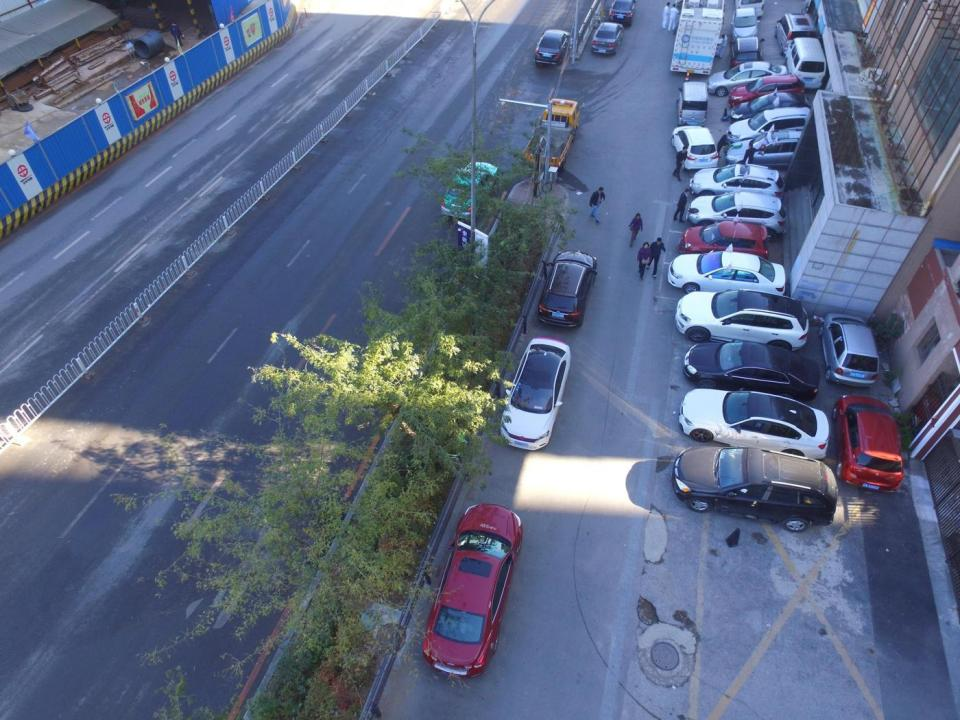car: (424, 500, 522, 681), (667, 441, 839, 538), (674, 382, 830, 461), (674, 287, 812, 350), (500, 336, 572, 450), (684, 341, 822, 400), (831, 393, 907, 494), (668, 248, 785, 298), (817, 310, 882, 387), (724, 126, 822, 174), (726, 103, 820, 153), (688, 190, 788, 236), (541, 250, 597, 327), (678, 220, 770, 262), (687, 164, 786, 202), (442, 162, 499, 218), (707, 62, 789, 96), (732, 92, 815, 124), (668, 126, 721, 170), (731, 74, 806, 104), (530, 24, 572, 67), (589, 20, 625, 57), (730, 33, 765, 68), (727, 7, 760, 40), (609, 0, 636, 26)
truck: (522, 96, 583, 172), (671, 0, 727, 75)
van: (773, 7, 821, 58), (785, 36, 825, 88), (677, 81, 707, 126)
